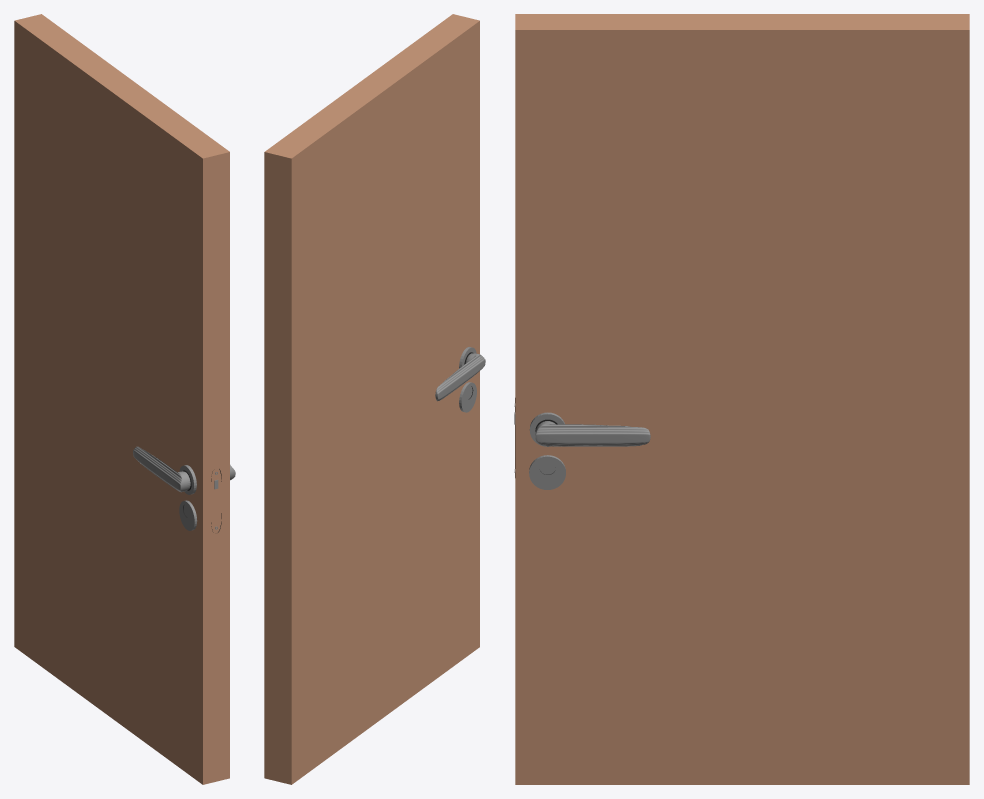
The model's file is door.fbx.
3 renders of one model, left to right at view 1: azimuth 30°, elevation 25°; view 2: azimuth 150°, elevation 25°; view 3: azimuth 270°, elevation 25°, orthographic. The views are drawn at different scales.
Parts seen in each view (by area): view 1: door; view 2: door; view 3: door.
Boxes of the visible parts, <box> form: door: <box>14,14,235,784</box>; door: <box>264,14,485,784</box>; door: <box>514,14,969,784</box>.
Bounding box in the file's own units: 41.54 × 440 × 240.
